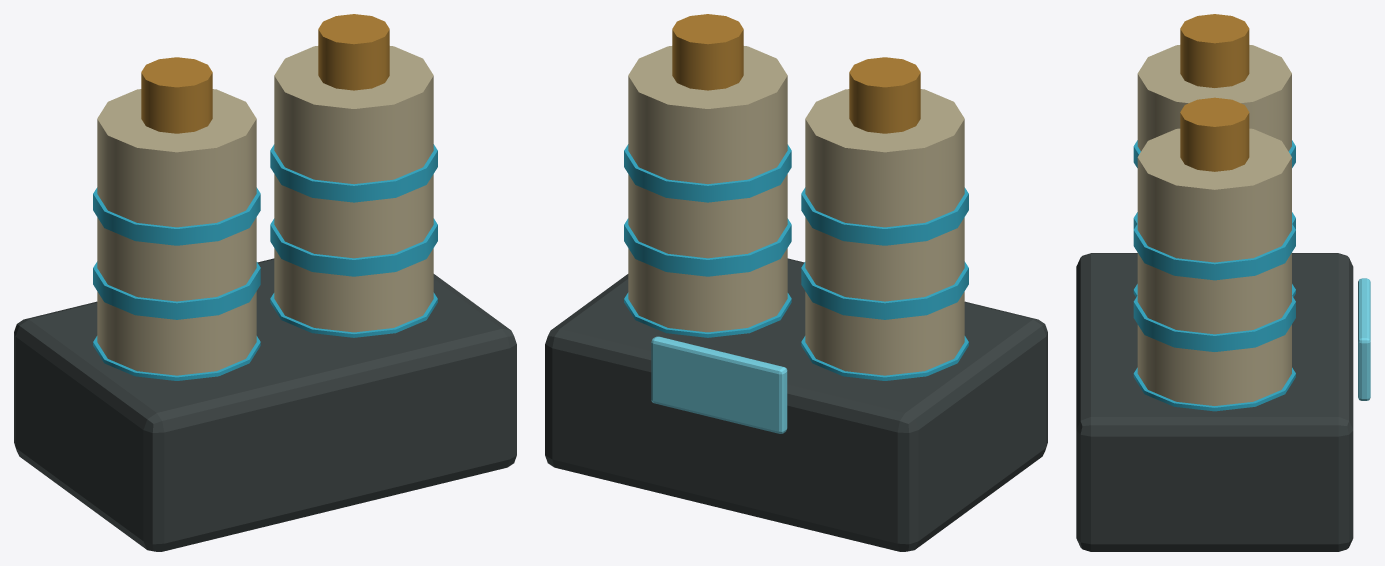
File: noir-ammo-arc.glb
The picture shows the model from 3 angles, left to right: view 1: azimuth 30°, elevation 25°; view 2: azimuth 150°, elevation 25°; view 3: azimuth 270°, elevation 25°; orthographic projection. The views are drawn at different scales.
Parts seen in each view (by area): view 1: noir-ammo-arc mesh; view 2: noir-ammo-arc mesh; view 3: noir-ammo-arc mesh.
Part boxes in pixels (bbox=[...]): noir-ammo-arc mesh: bbox=[14, 14, 516, 551]; noir-ammo-arc mesh: bbox=[545, 14, 1047, 551]; noir-ammo-arc mesh: bbox=[1076, 14, 1370, 551].
Bounding box in the file's own units: 0.42 × 0.445 × 0.2975.
